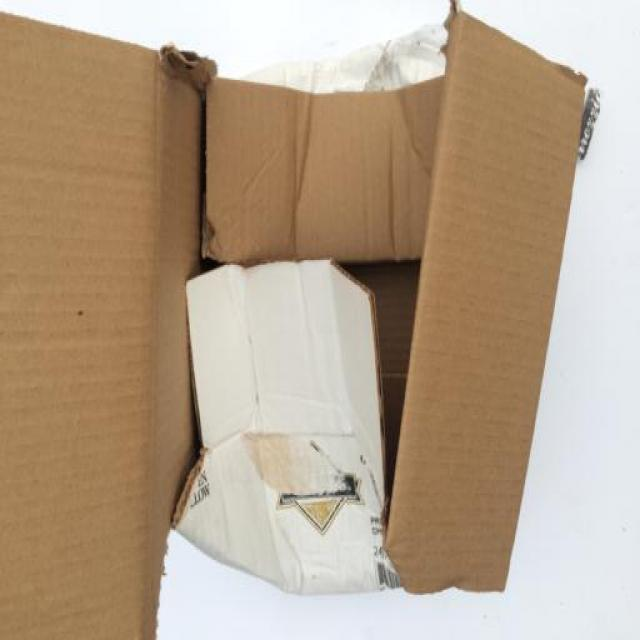cardboard: (1, 4, 622, 640)
